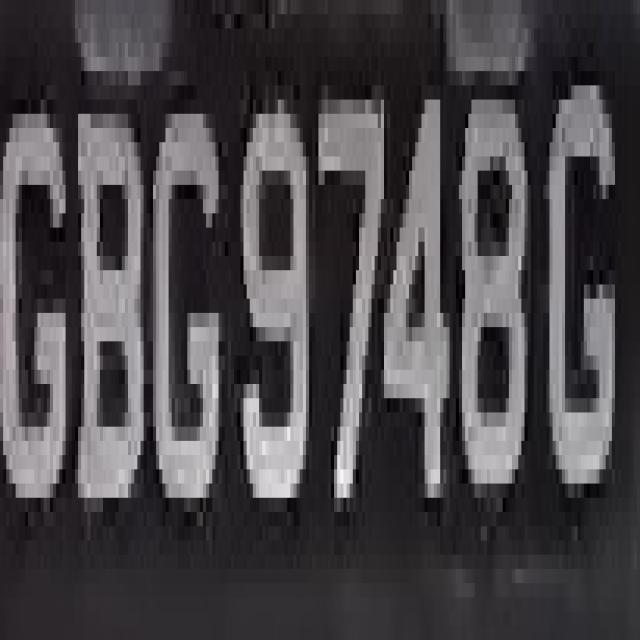4: (372, 43, 452, 526)
7: (306, 42, 381, 554)
8: (456, 43, 528, 569)
9: (240, 85, 312, 555)
B: (68, 71, 144, 555)
G: (141, 128, 234, 583), (546, 85, 622, 583), (3, 71, 66, 526)
